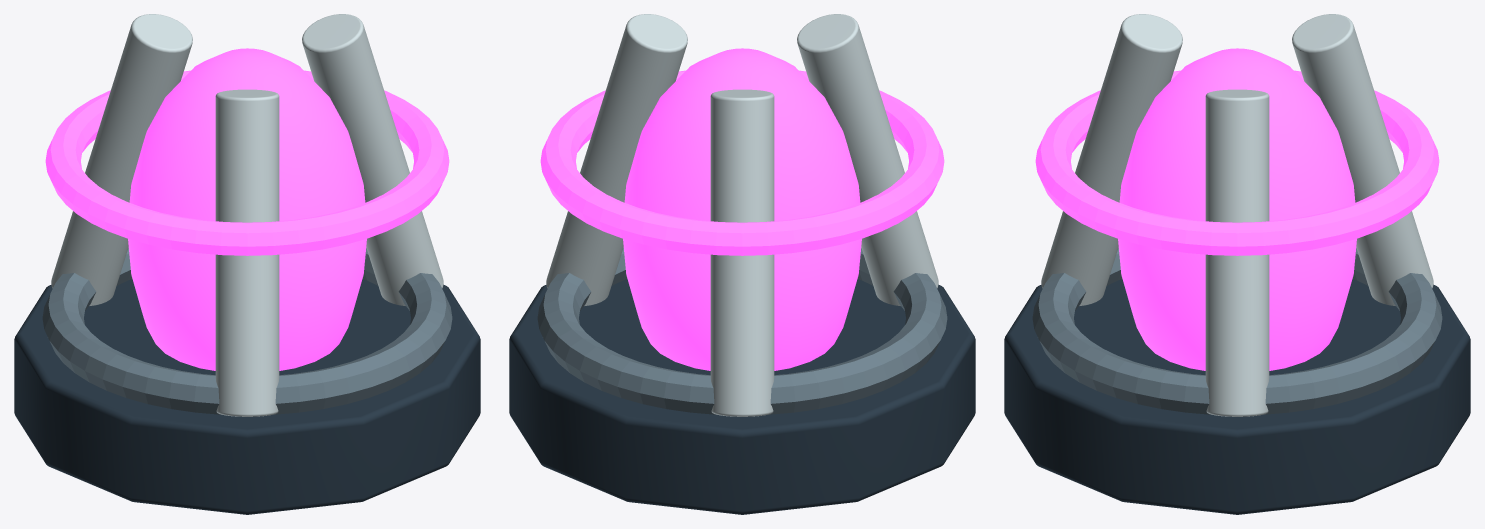
The model's file is ShieldEmitter.fbx.
The picture shows the model from 3 angles, left to right: view 1: azimuth 30°, elevation 25°; view 2: azimuth 150°, elevation 25°; view 3: azimuth 270°, elevation 25°; orthographic projection.
Parts seen in each view (by area): view 1: Armored rotating base.005, Shield crystal.002, Containment ring.002, Bearing race.005, Magnetic arm.008, Magnetic arm.006, Magnetic arm.007; view 2: Armored rotating base.005, Shield crystal.002, Containment ring.002, Bearing race.005, Magnetic arm.007, Magnetic arm.006, Magnetic arm.008; view 3: Armored rotating base.005, Shield crystal.002, Containment ring.002, Bearing race.005, Magnetic arm.006, Magnetic arm.007, Magnetic arm.008.
Boxes of the visible parts, x1,y1,x2,y2 form: Armored rotating base.005: [14, 279, 480, 514]; Shield crystal.002: [128, 48, 366, 370]; Containment ring.002: [45, 70, 449, 255]; Bearing race.005: [42, 248, 452, 414]; Magnetic arm.008: [215, 89, 279, 416]; Magnetic arm.006: [302, 14, 443, 305]; Magnetic arm.007: [51, 14, 192, 305]; Armored rotating base.005: [509, 279, 975, 514]; Shield crystal.002: [623, 48, 861, 370]; Containment ring.002: [540, 70, 944, 255]; Bearing race.005: [537, 248, 947, 414]; Magnetic arm.007: [710, 89, 774, 416]; Magnetic arm.006: [546, 14, 687, 305]; Magnetic arm.008: [797, 14, 938, 305]; Armored rotating base.005: [1004, 279, 1470, 514]; Shield crystal.002: [1118, 48, 1356, 370]; Containment ring.002: [1035, 70, 1439, 255]; Bearing race.005: [1032, 248, 1442, 414]; Magnetic arm.006: [1205, 89, 1269, 416]; Magnetic arm.007: [1292, 14, 1433, 305]; Magnetic arm.008: [1041, 14, 1182, 305].
Bounding box in the file's own units: 124 × 110 × 124.
